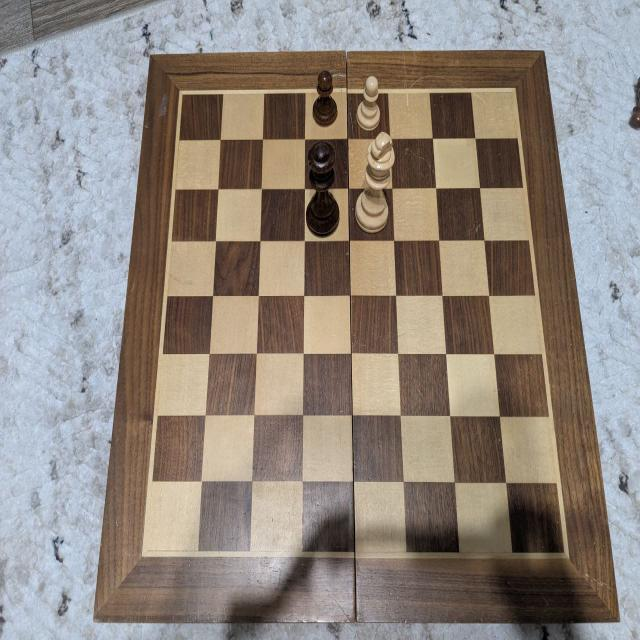black_pawn: (312, 69, 338, 127)
black_queen: (306, 139, 341, 239)
white_king: (355, 131, 395, 234)
white_pawn: (357, 74, 381, 132)
